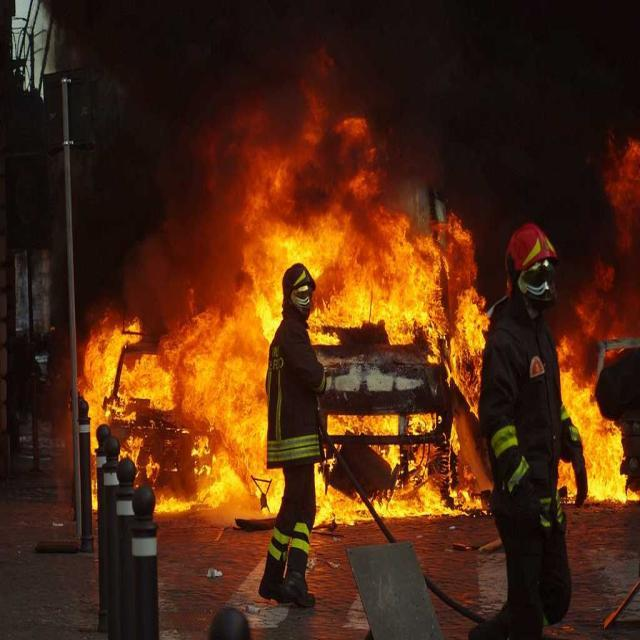Fire: (322, 227, 434, 320), (190, 310, 266, 446), (254, 212, 307, 268), (586, 420, 621, 500)
Smoke: (98, 127, 197, 240), (108, 9, 236, 88)
